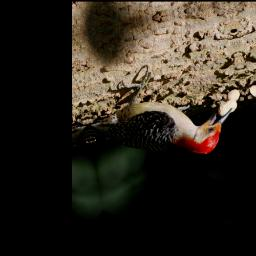Woodpecker: (81, 45, 239, 177)
